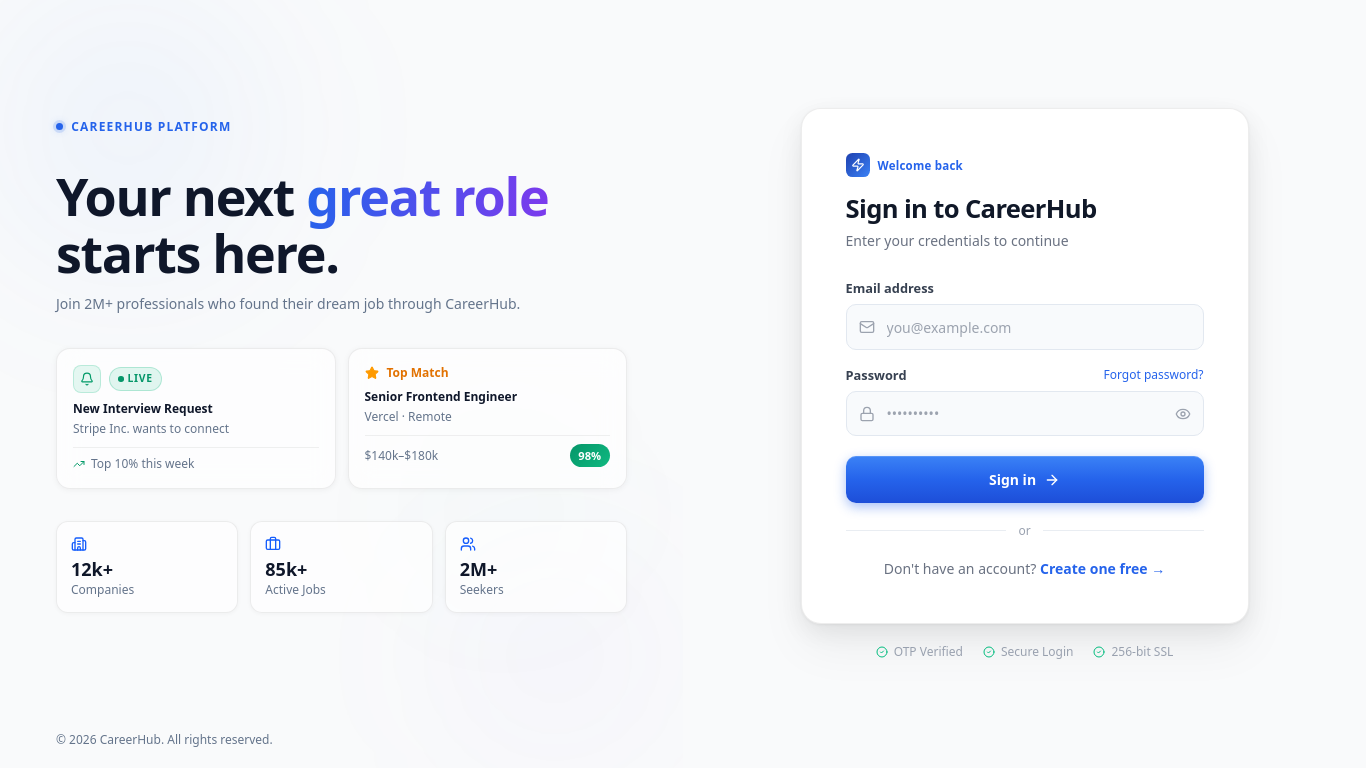
Login page › clicking Forgot password switches to forgot mode
Click the button "Forgot password?".
click(1154, 375)  # box [1104,367,1204,383]
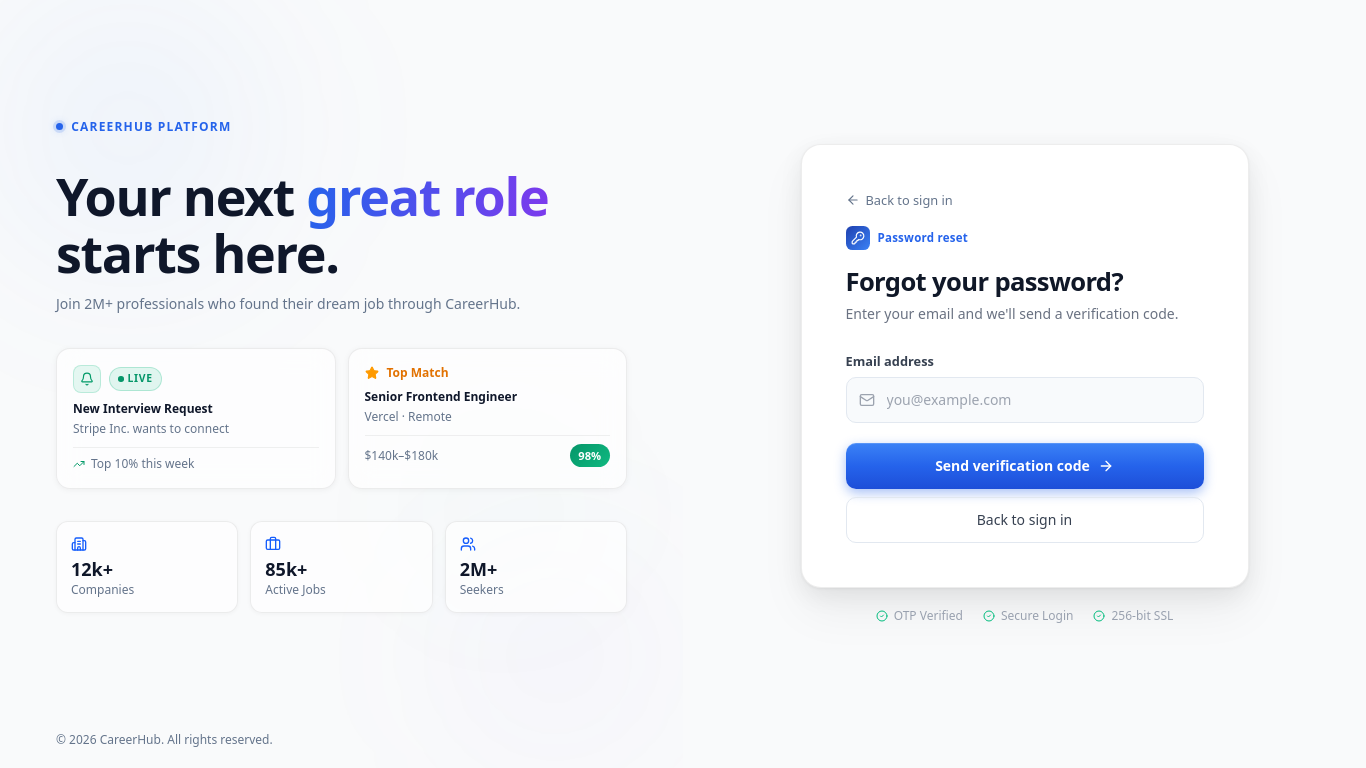
Now the heading "Forgot your password?" is shown, box [846,264,1123,299]
